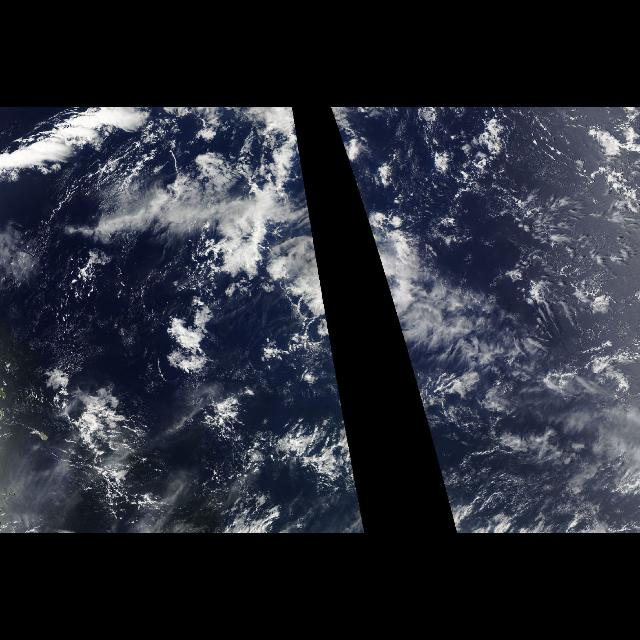Fish: (33, 369, 175, 529), (206, 397, 354, 525)
Gravel: (392, 121, 640, 471)
